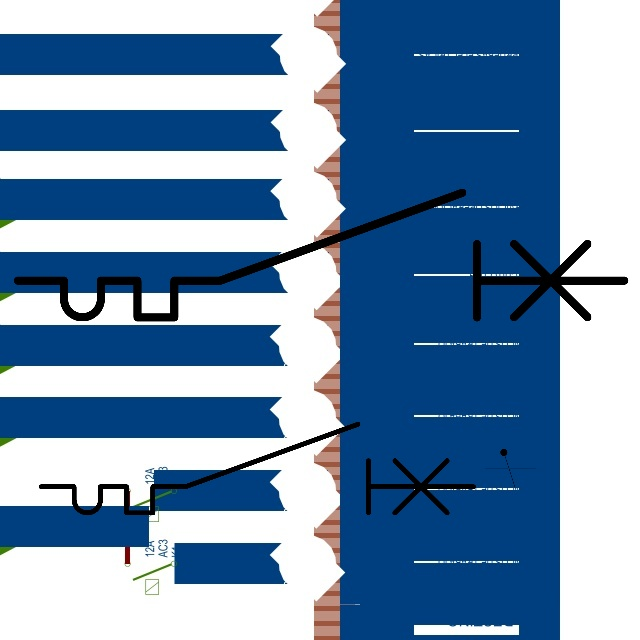interruptor_termomagnetico: (2, 177, 640, 333), (30, 413, 484, 524)
